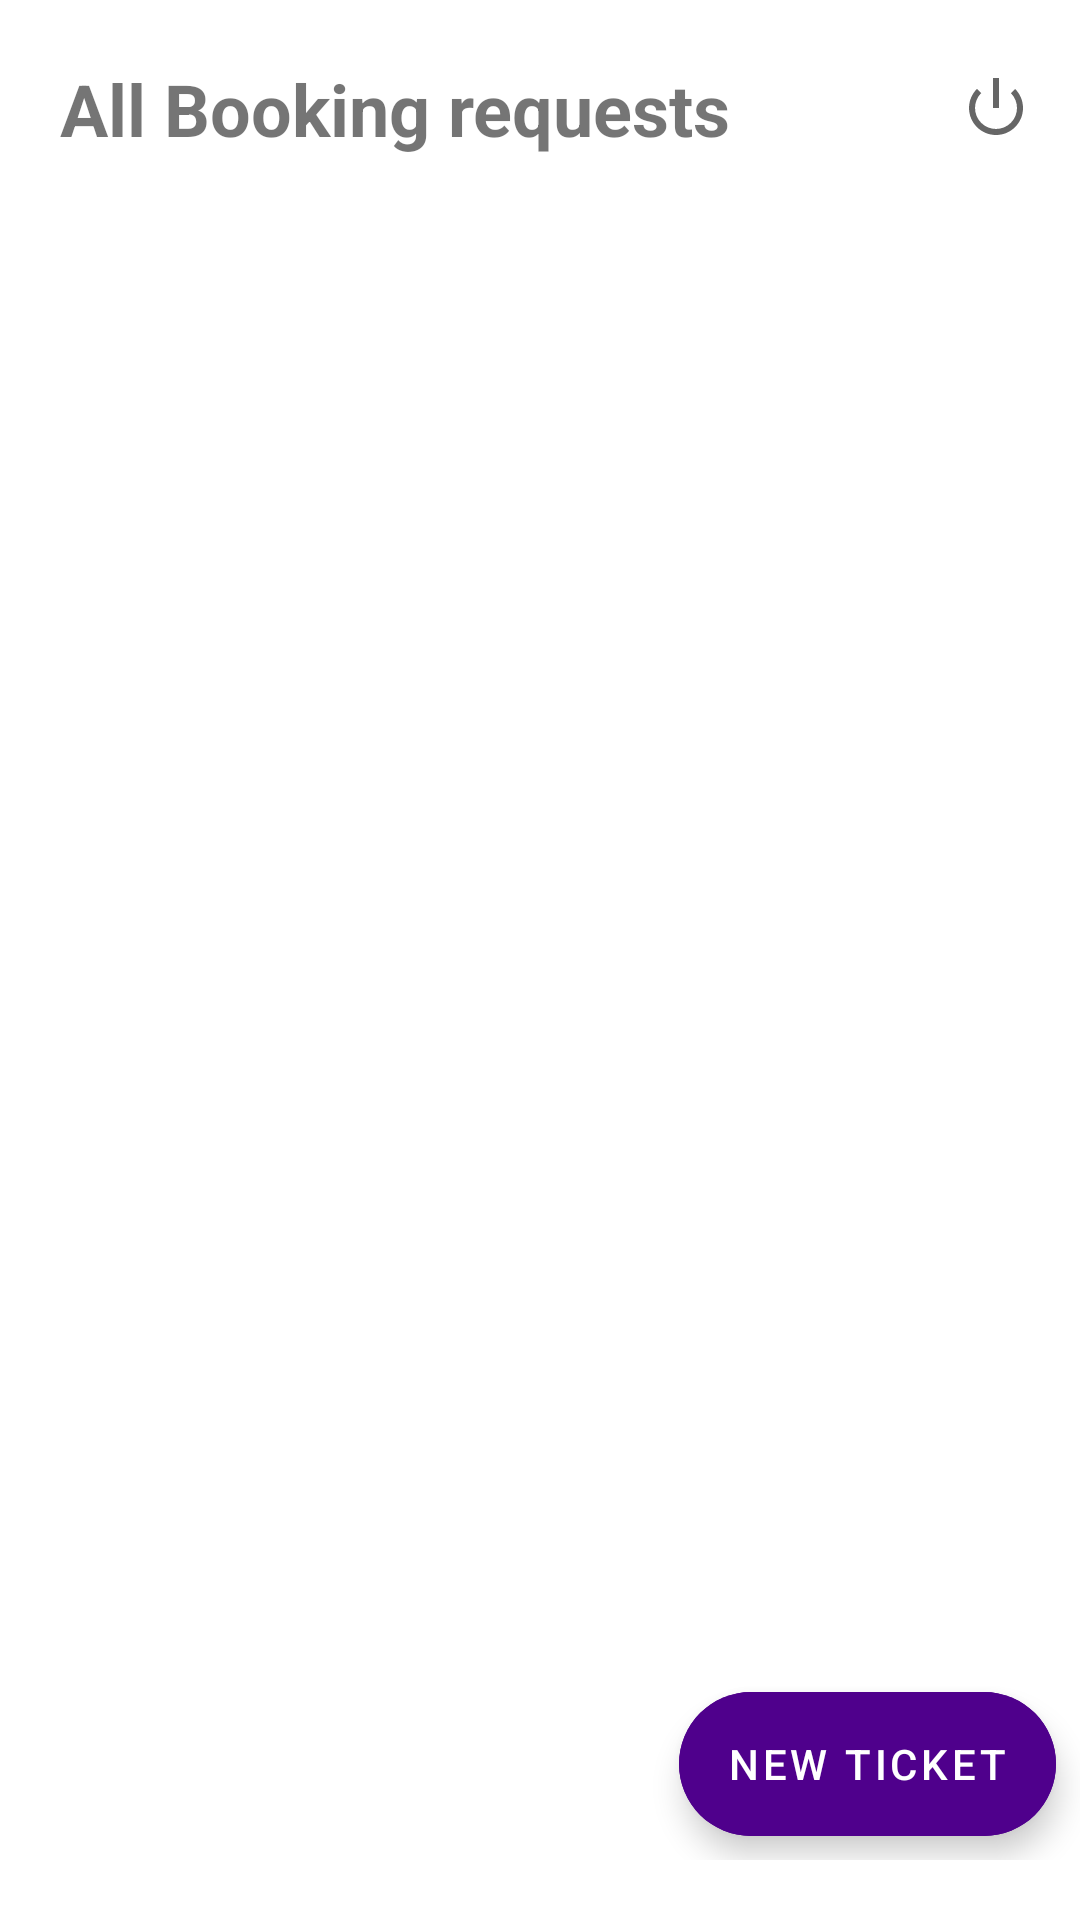

Locate icon controls on the screen. Image size 1080px x 1920px, boxes as bbox(x1, y1, x2, y2).
lock power off: bbox(969, 78, 1023, 135)
